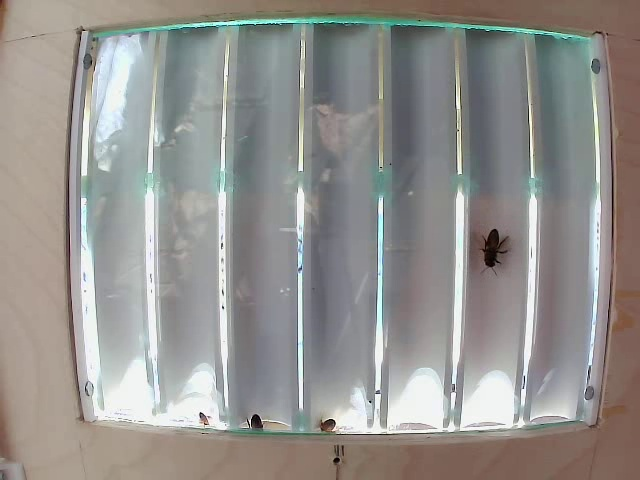bee: (463, 208, 509, 288)
